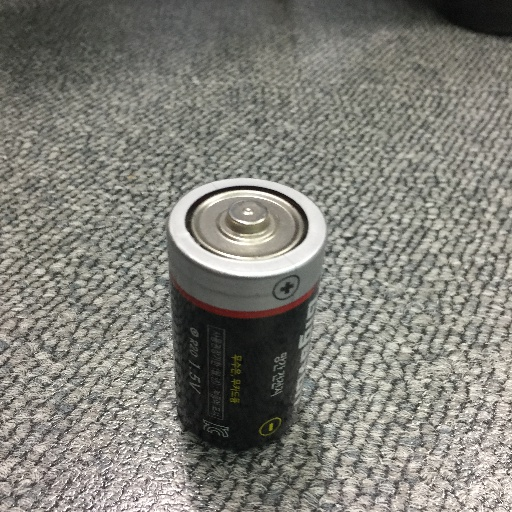Battery_0: (153, 162, 342, 461)
